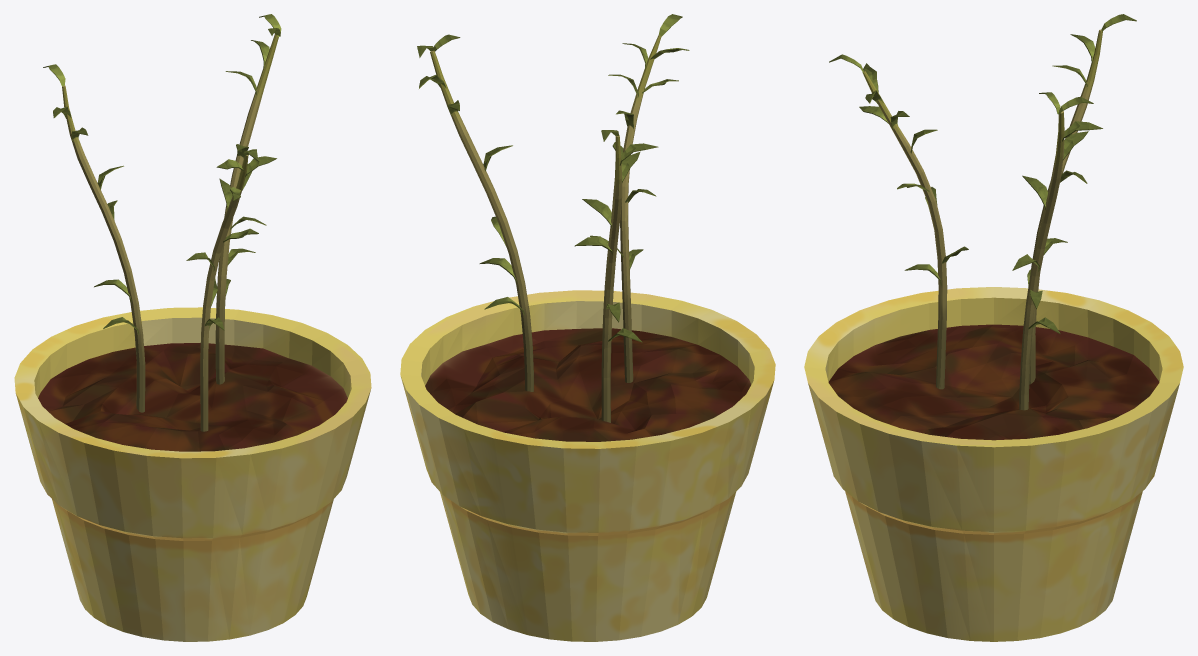
Rendered from Lilium_Dead_End.glb.
The picture shows the model from 3 angles, left to right: view 1: azimuth 30°, elevation 25°; view 2: azimuth 150°, elevation 25°; view 3: azimuth 270°, elevation 25°; orthographic projection. The views are drawn at different scales.
Visible parts, largest first — view 1: Pot, Plane.003; view 2: Pot, Plane.003; view 3: Pot, Plane.003.
Boxes of the visible parts, bbox=[...] form: Pot: bbox=[14, 307, 371, 641]; Plane.003: bbox=[43, 14, 281, 431]; Pot: bbox=[400, 290, 775, 641]; Plane.003: bbox=[417, 14, 689, 422]; Pot: bbox=[804, 287, 1183, 641]; Plane.003: bbox=[829, 14, 1136, 410].
Bounding box in the file's own units: 2.05 × 3.29 × 2.05.
3 materials, 3 textured.
